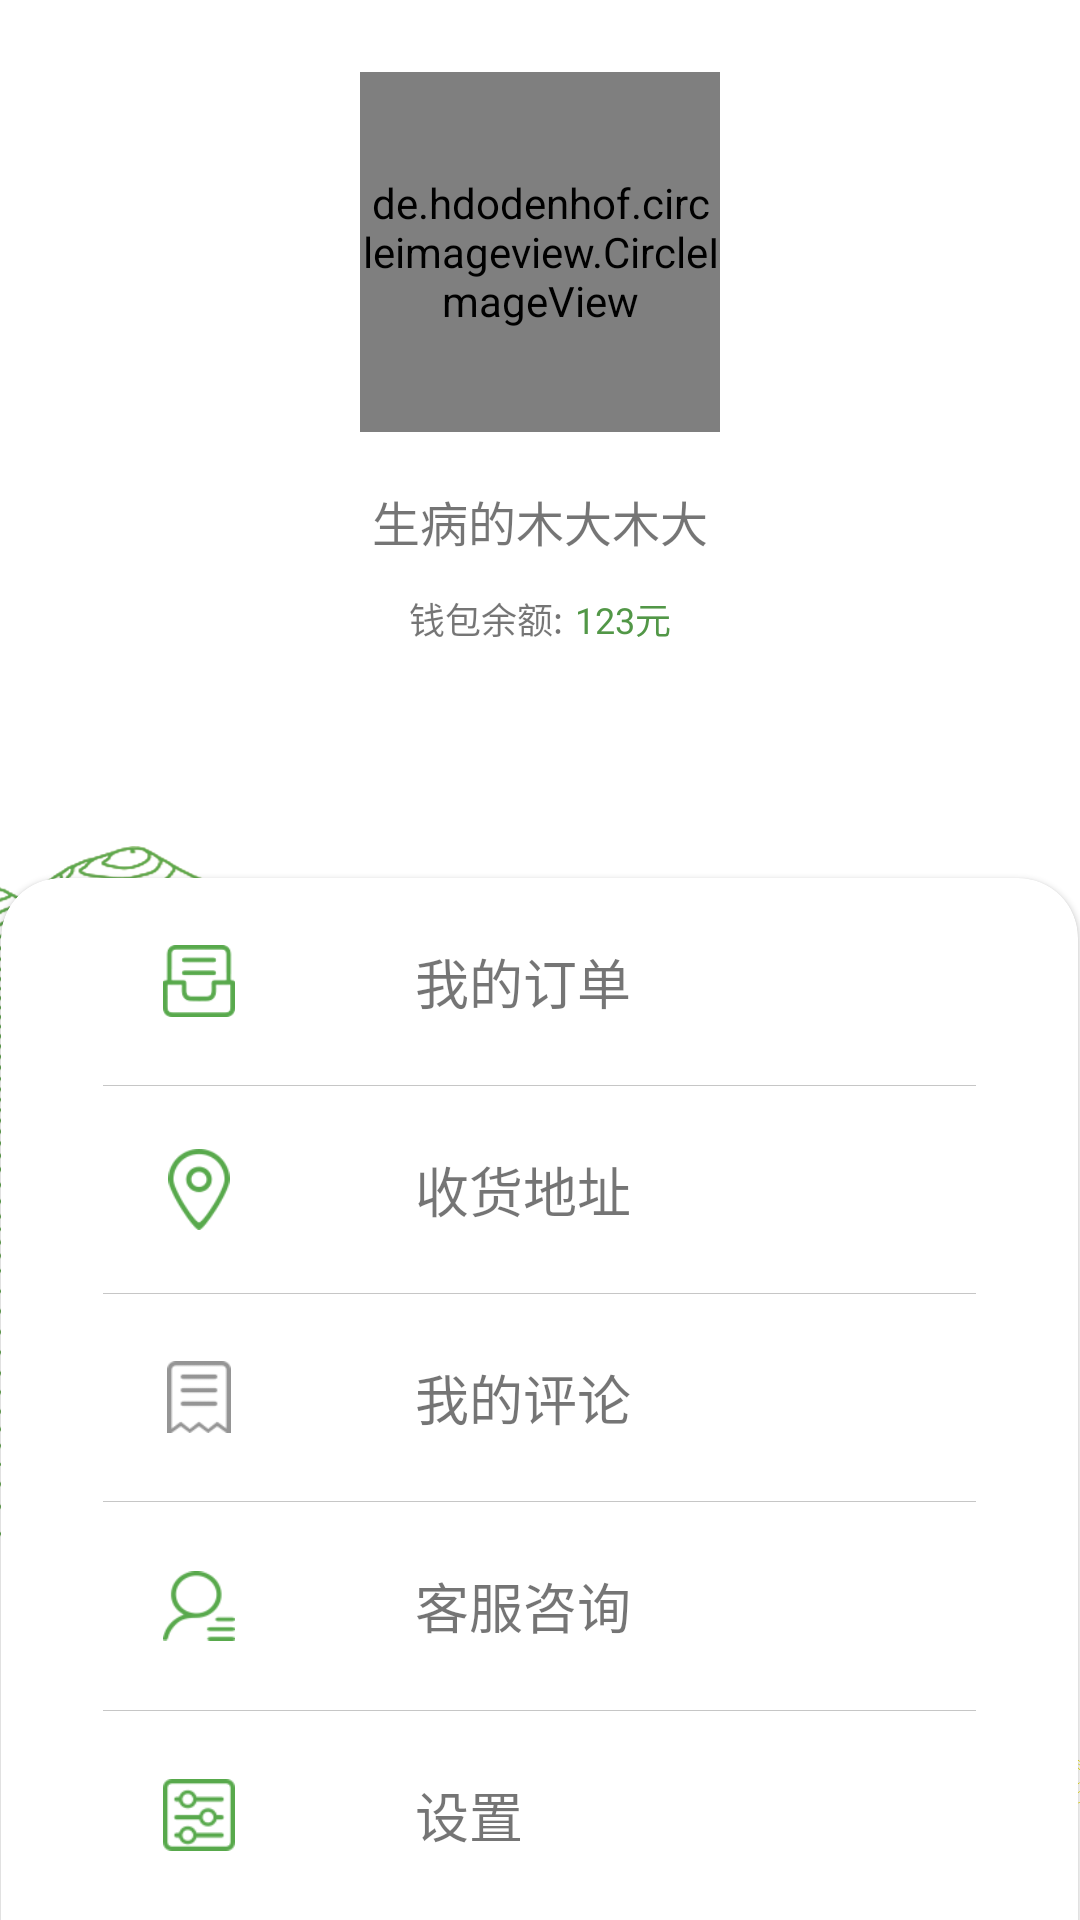

Icons on this 1080x1920 Android screen, each with the point to tap as (x=x, y=y):
address check: (x=199, y=1189)
myorder: (x=199, y=981)
setting: (x=199, y=1815)
